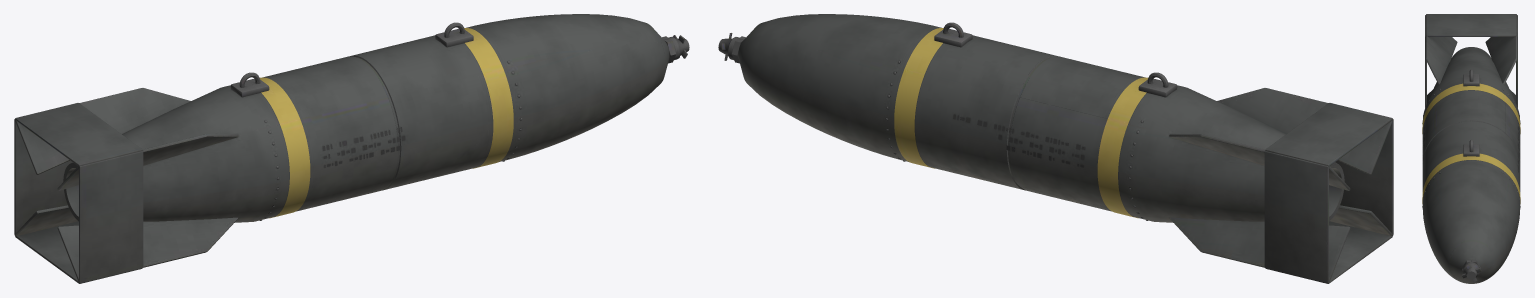
File: hebomb_1.glb
3 views of the same model, side by side, from view 1: azimuth 30°, elevation 25°; view 2: azimuth 150°, elevation 25°; view 3: azimuth 270°, elevation 25° (orthographic). The views are drawn at different scales.
Visible parts, largest first — view 1: hebomb_1; view 2: hebomb_1; view 3: hebomb_1.
Boxes of the visible parts, x1,y1,x2,y2 form: hebomb_1: [14, 14, 689, 283]; hebomb_1: [718, 14, 1393, 283]; hebomb_1: [1422, 14, 1520, 283].
Bounding box in the file's own units: 0.8 × 0.1702 × 0.1516.
Materials: 5 (5 with a texture image).
